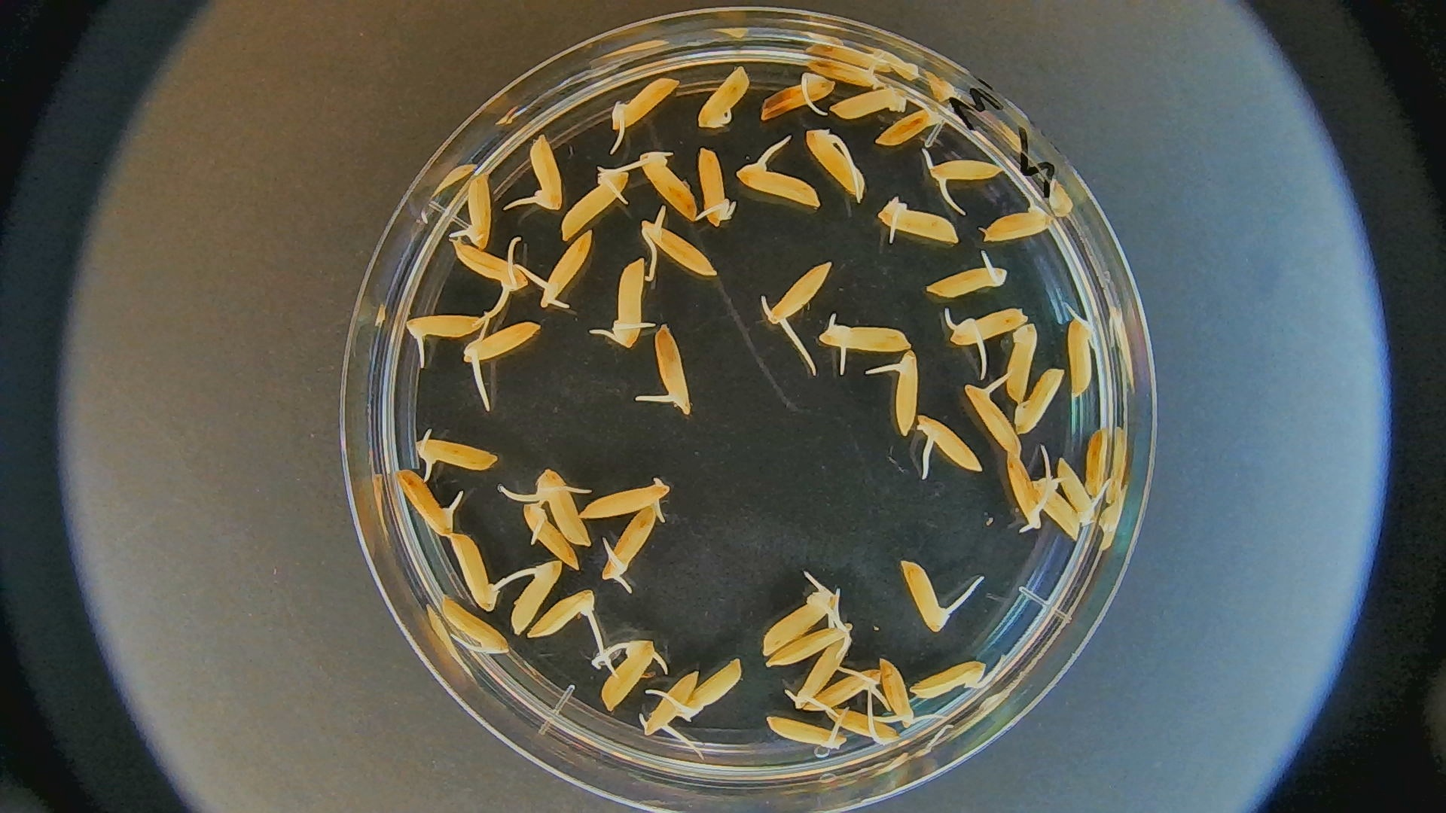no: (1014, 365, 1066, 433), (984, 206, 1049, 244), (1008, 322, 1037, 400), (831, 91, 910, 118), (1085, 432, 1106, 496)
yes: (563, 163, 630, 236), (638, 222, 716, 282), (806, 126, 868, 200), (762, 587, 830, 654), (629, 149, 695, 218), (600, 507, 660, 582), (675, 657, 744, 721), (762, 260, 831, 324), (440, 595, 514, 654), (768, 619, 856, 668), (449, 534, 502, 614), (737, 161, 822, 209), (961, 379, 1014, 455), (538, 470, 590, 547), (509, 559, 563, 633), (874, 197, 959, 243), (761, 69, 837, 120), (603, 642, 659, 711), (611, 77, 680, 133), (899, 558, 951, 632), (395, 472, 457, 534), (537, 233, 590, 305), (524, 502, 581, 568), (920, 414, 981, 475), (792, 640, 847, 707), (923, 253, 1006, 297), (908, 657, 987, 703), (638, 673, 694, 736), (944, 304, 1028, 346), (457, 244, 526, 293), (527, 588, 593, 639), (1064, 300, 1099, 396), (692, 66, 746, 127), (652, 324, 688, 413), (887, 350, 923, 439), (465, 321, 541, 363), (584, 480, 665, 519), (698, 148, 737, 227), (526, 136, 567, 211), (419, 435, 499, 472), (821, 324, 912, 355), (1006, 458, 1044, 531), (612, 262, 645, 346), (769, 715, 844, 751), (1055, 457, 1097, 520), (811, 671, 880, 709), (461, 172, 495, 246), (834, 706, 900, 744), (407, 309, 485, 341), (876, 105, 935, 146), (877, 656, 910, 724), (1039, 486, 1081, 537), (927, 154, 998, 184), (810, 58, 878, 88)
